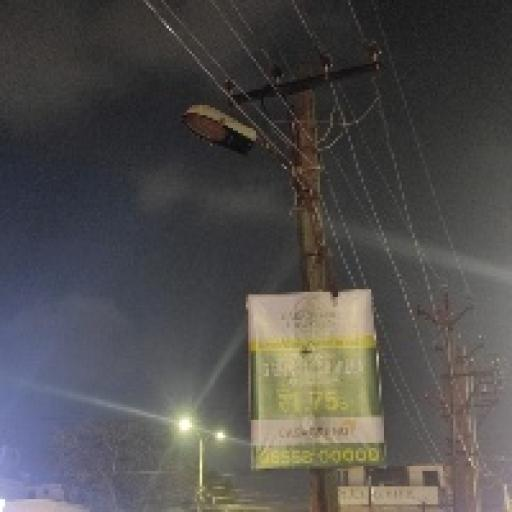Not Working: (171, 93, 266, 159)
Working: (168, 412, 202, 438), (207, 424, 232, 446)
